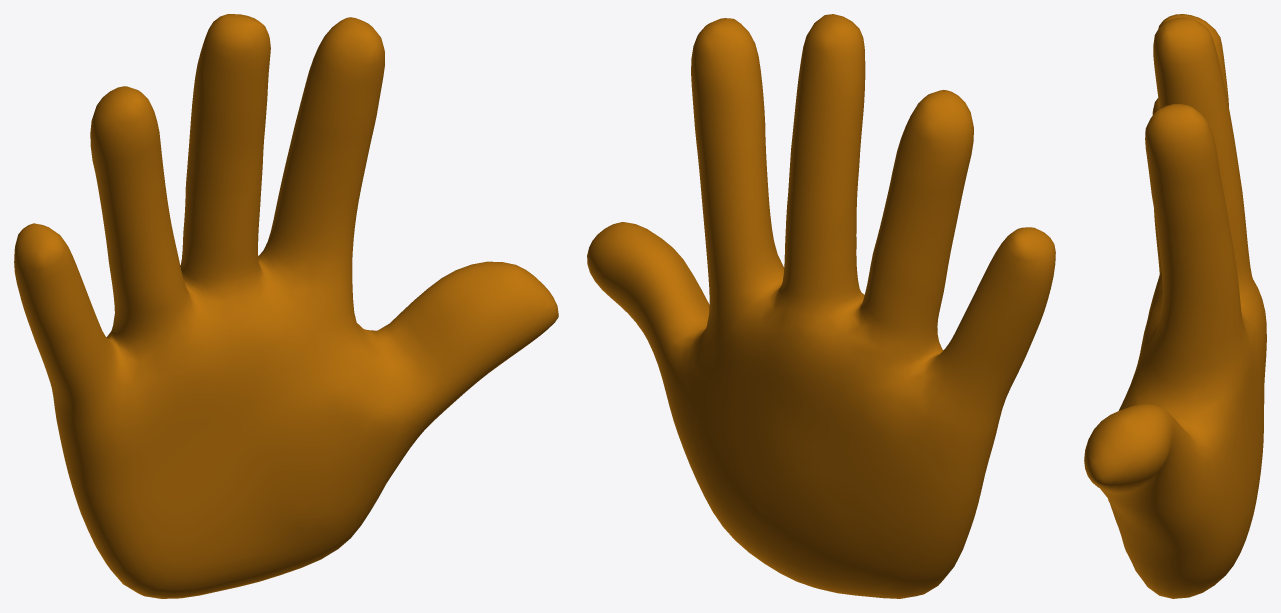
Rendered from Fingers Splayed.FBX.
3 renders of one model, left to right at view 1: azimuth 30°, elevation 25°; view 2: azimuth 150°, elevation 25°; view 3: azimuth 270°, elevation 25°, orthographic. The views are drawn at different scales.
Parts seen in each view (by area): view 1: Fingers Splayed004; view 2: Fingers Splayed004; view 3: Fingers Splayed004.
Part boxes in pixels (x1=…): Fingers Splayed004: x1=14, y1=14, x2=558, y2=598; Fingers Splayed004: x1=587, y1=14, x2=1055, y2=598; Fingers Splayed004: x1=1084, y1=14, x2=1266, y2=598.
Size of the model in its own units: 14.32 by 15.63 by 4.66.
